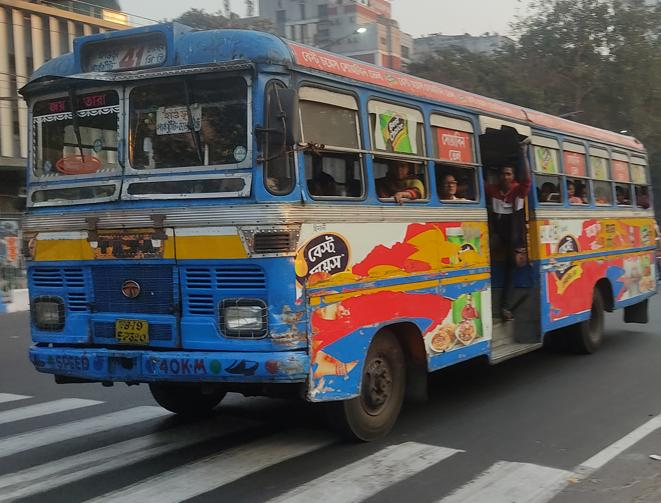Bus: (22, 22, 661, 440)
